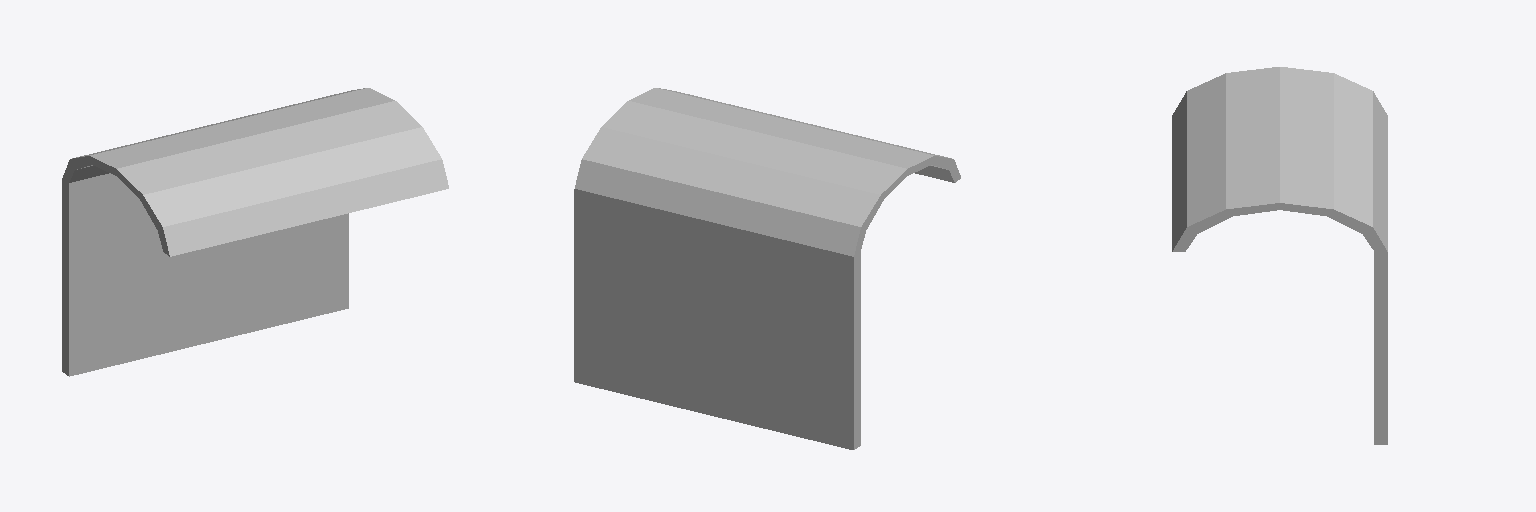
Rendered from Props_Bus Stop.obj.
3 views of the same model, side by side, from view 1: azimuth 30°, elevation 25°; view 2: azimuth 150°, elevation 25°; view 3: azimuth 270°, elevation 25° (orthographic).
Parts seen in each view (by area): view 1: Props_Bus_Stop; view 2: Props_Bus_Stop; view 3: Props_Bus_Stop.
Part boxes in pixels (x1,y1,x2,y2): Props_Bus_Stop: (62,88,448,376); Props_Bus_Stop: (574,88,960,449); Props_Bus_Stop: (1172,67,1387,444).
Size of the model in its own units: 236 by 196 by 157.